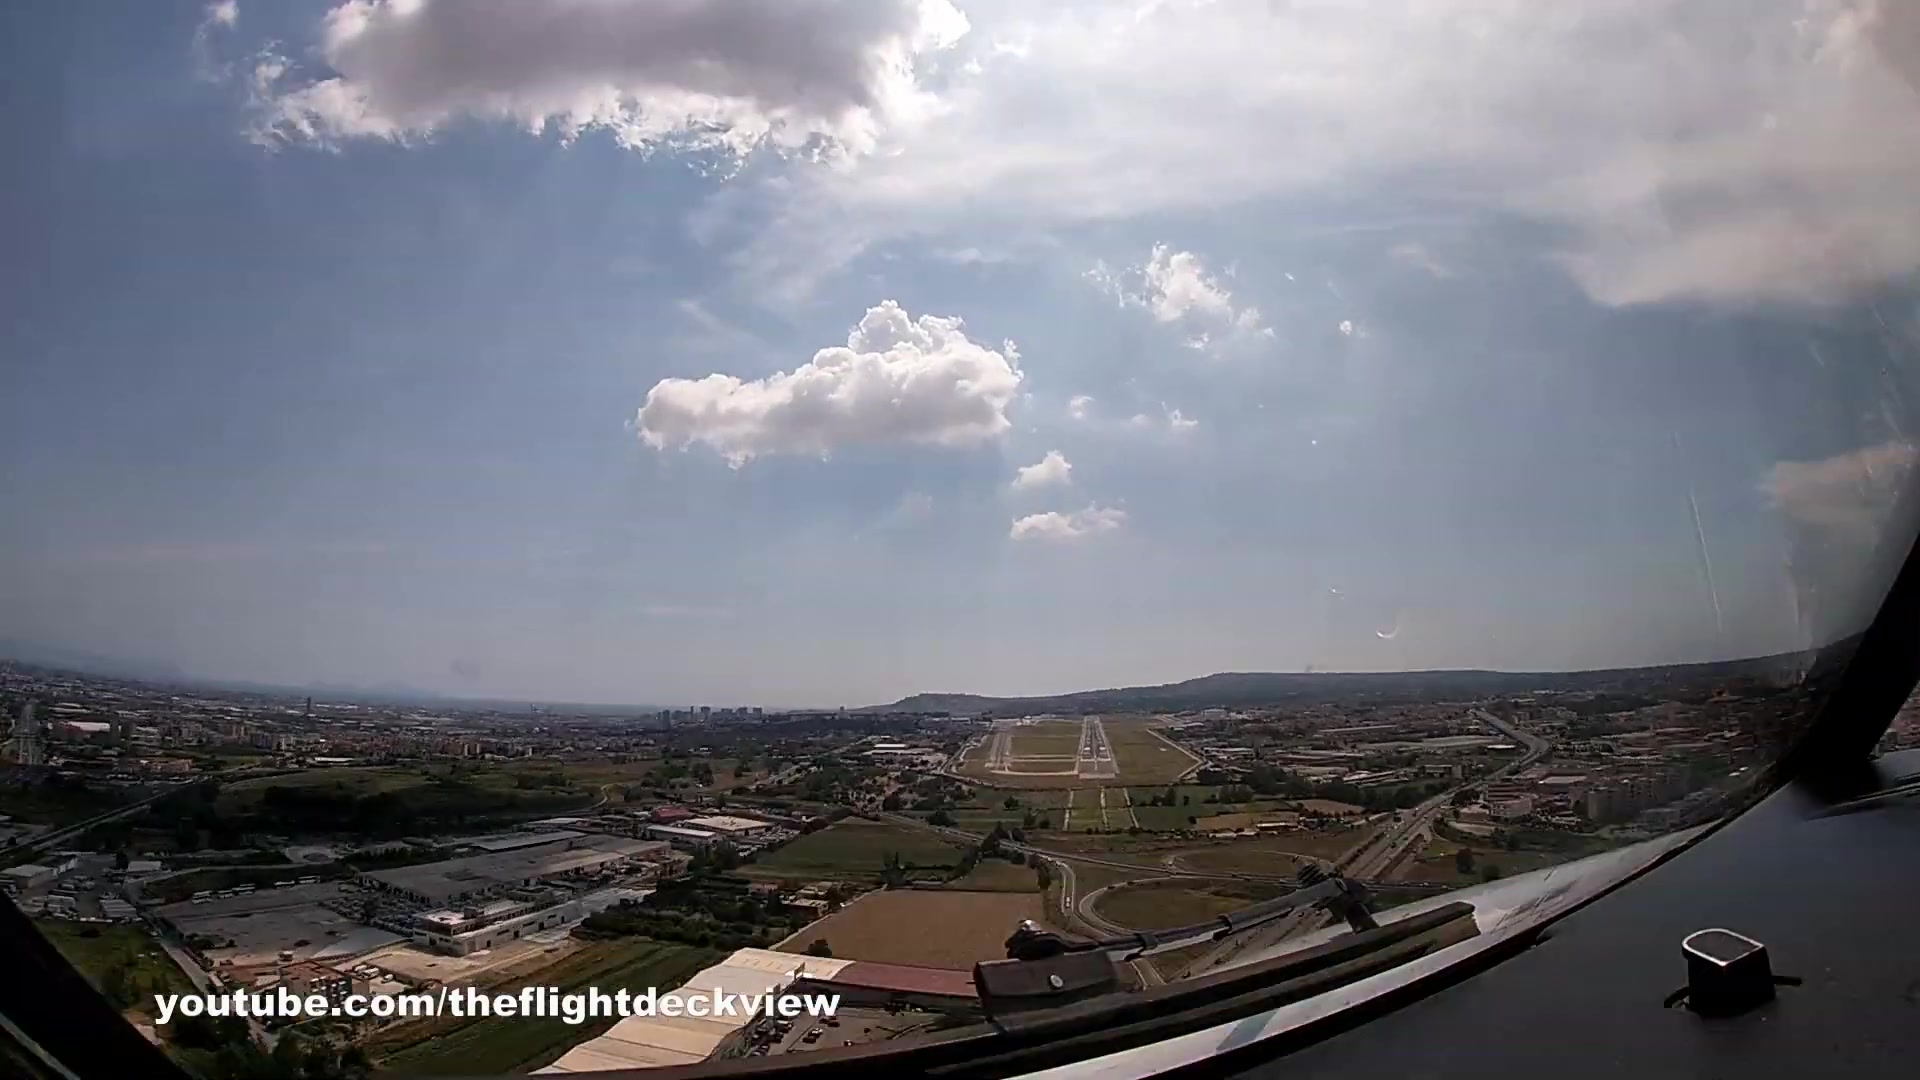runway: (1075, 715, 1113, 764)
